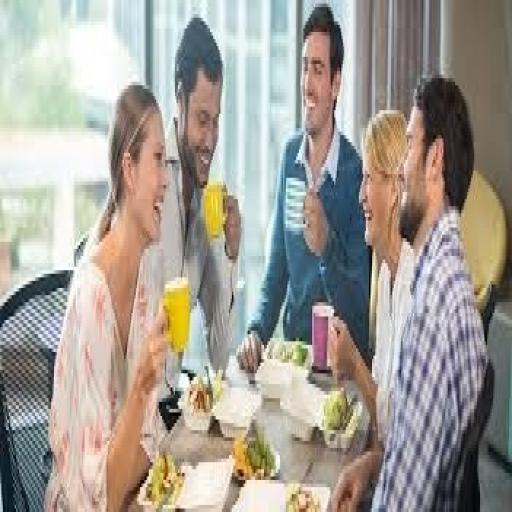eating: (42, 7, 492, 505), (42, 78, 172, 508)
